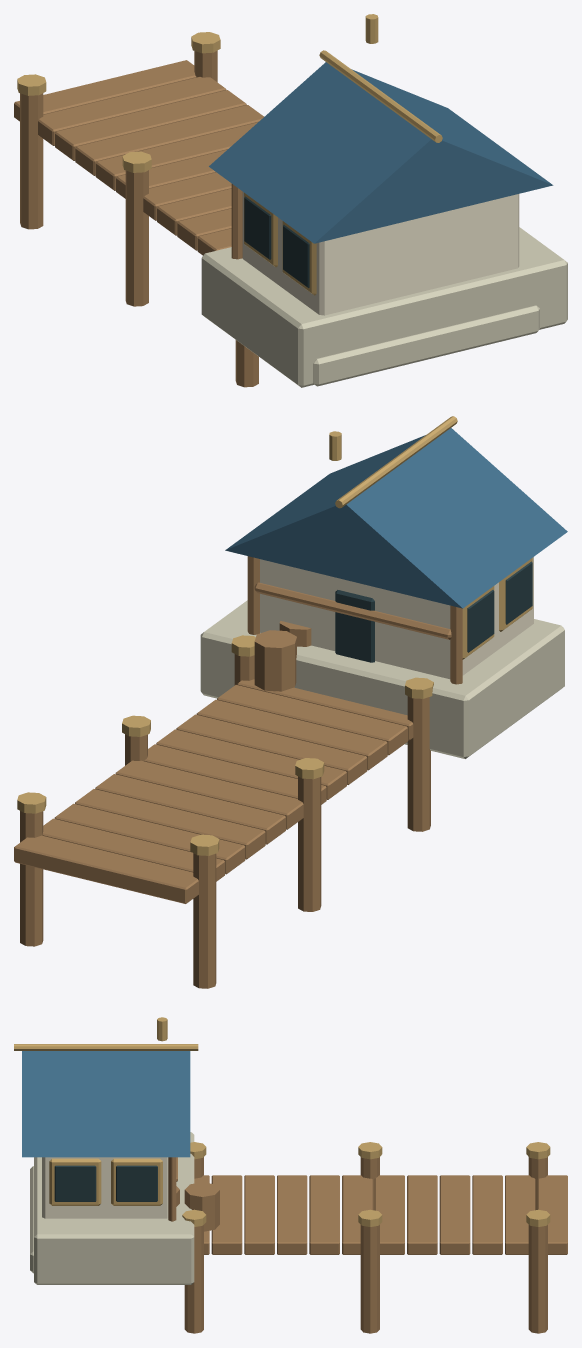
Rendered from level_05.glb.
The picture shows the model from 3 angles, top to bottom: view 1: azimuth 30°, elevation 25°; view 2: azimuth 150°, elevation 25°; view 3: azimuth 270°, elevation 25°; orthographic projection. The views are drawn at different scales.
Parts seen in each view (by area): view 1: fishing_wharf — level 05; view 2: fishing_wharf — level 05; view 3: fishing_wharf — level 05.
Part boxes in pixels (box(x1,y1,x2,y2)): fishing_wharf — level 05: box(14, 14, 567, 387); fishing_wharf — level 05: box(14, 416, 567, 988); fishing_wharf — level 05: box(14, 1017, 567, 1333).
Bounding box in the file's own units: 3.1 × 3.9 × 6.91.
